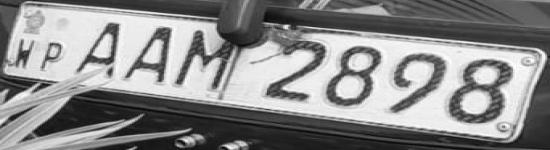2: (271, 40, 326, 108)
8: (448, 52, 516, 124), (328, 43, 384, 111)
9: (384, 48, 449, 122)
A: (125, 22, 174, 90), (72, 18, 121, 78)
M: (176, 27, 235, 97)
P: (39, 40, 66, 72)
W: (9, 37, 37, 69)
